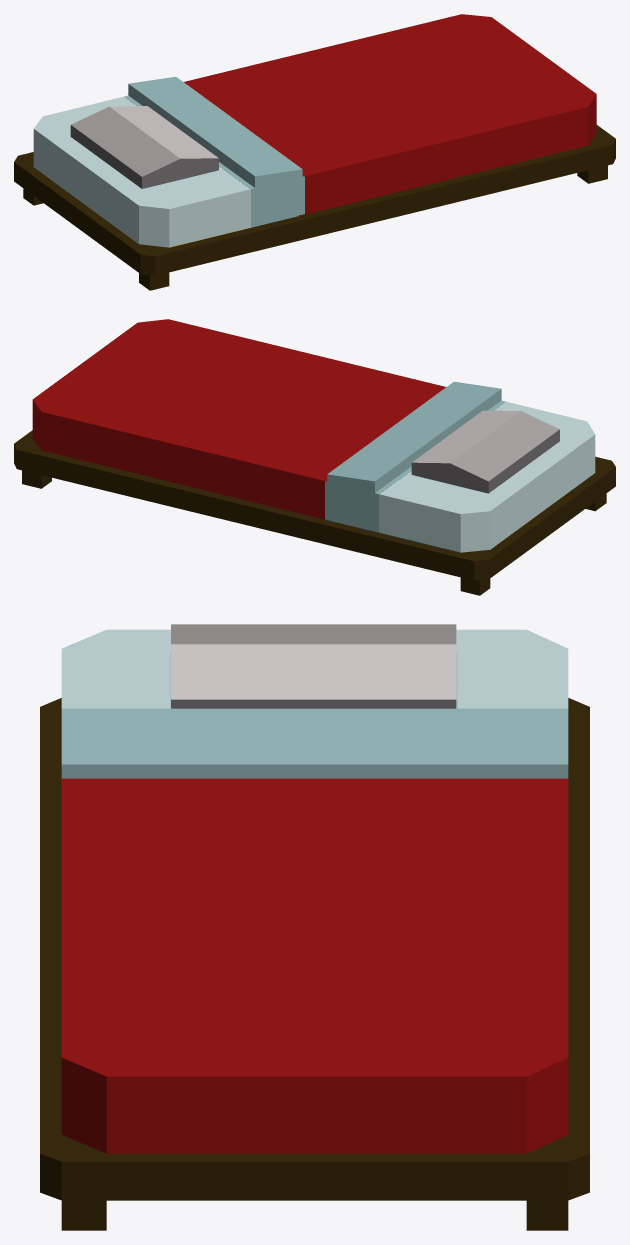
Rendered from cama.gltf.
3 views of the same model, one above another, from view 1: azimuth 30°, elevation 25°; view 2: azimuth 150°, elevation 25°; view 3: azimuth 270°, elevation 25° (orthographic). The views are drawn at different scales.
Parts seen in each view (by area): view 1: Cube; view 2: Cube; view 3: Cube.
Part boxes in pixels (box(x1,y1,x2,y2)): Cube: box(14, 14, 615, 290); Cube: box(14, 319, 615, 595); Cube: box(40, 624, 589, 1230).
Bounding box in the file's own units: 4.99 × 0.9827 × 2.5.
Materials: 1 (1 with a texture image).
